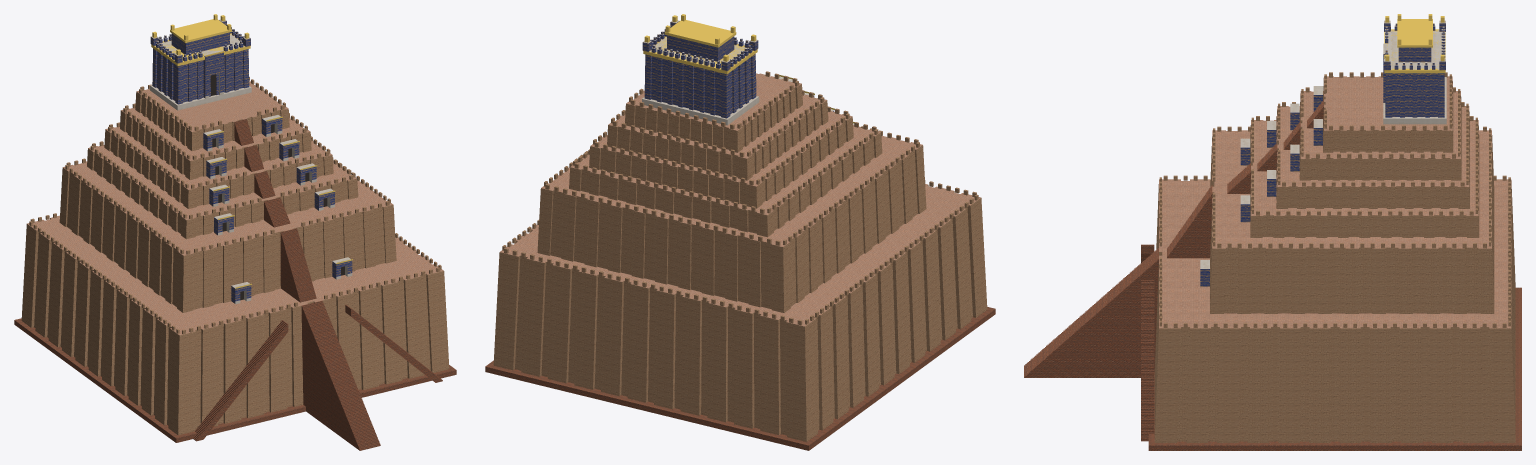
The model's file is ziggurat_etemenanki.glb.
3 views of the same model, side by side, from view 1: azimuth 30°, elevation 25°; view 2: azimuth 150°, elevation 25°; view 3: azimuth 270°, elevation 25° (orthographic). The views are drawn at different scales.
Parts seen in each view (by area): view 1: ziggurat_etemenanki; view 2: ziggurat_etemenanki; view 3: ziggurat_etemenanki.
Boxes of the visible parts, x1,y1,x2,y2 form: ziggurat_etemenanki: (14, 14, 456, 450); ziggurat_etemenanki: (485, 14, 995, 450); ziggurat_etemenanki: (1024, 14, 1521, 450).
Bounding box in the file's own units: 94.5 × 96.4 × 126.
7 materials, 5 textured.
